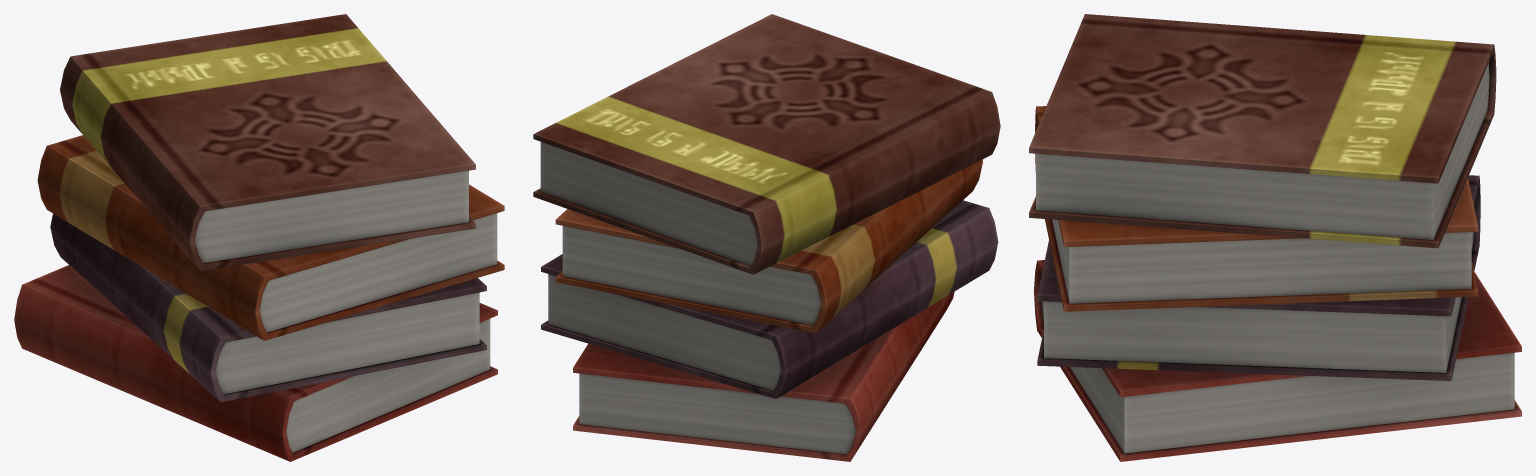
The model's file is DS_WizLab_Clut_BookPileA.fbx.
3 renders of one model, left to right at view 1: azimuth 30°, elevation 25°; view 2: azimuth 150°, elevation 25°; view 3: azimuth 270°, elevation 25°, orthographic. The views are drawn at different scales.
Parts seen in each view (by area): view 1: DS_WizLab_Clut_BookPileA; view 2: DS_WizLab_Clut_BookPileA; view 3: DS_WizLab_Clut_BookPileA.
Boxes of the visible parts, x1,y1,x2,y2 form: DS_WizLab_Clut_BookPileA: (14, 14, 504, 461); DS_WizLab_Clut_BookPileA: (533, 14, 1000, 461); DS_WizLab_Clut_BookPileA: (1029, 14, 1521, 461).
Bounding box in the file's own units: 36.36 × 26.12 × 41.66.
1 material, 1 textured.
